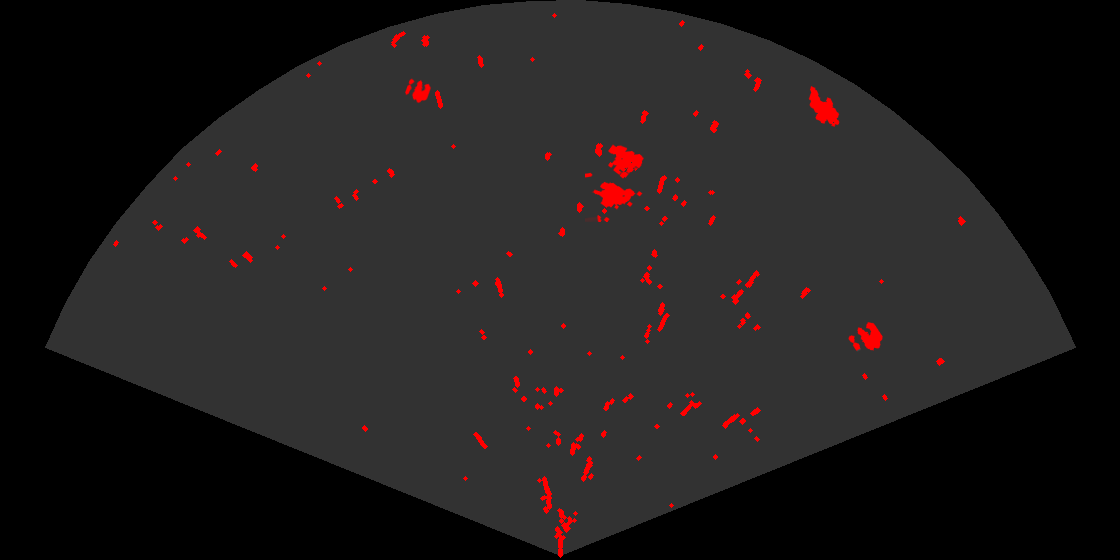AUV: (807, 84, 841, 128)
ball: (847, 320, 884, 352), (404, 77, 433, 105)
cage: (585, 143, 645, 222)
